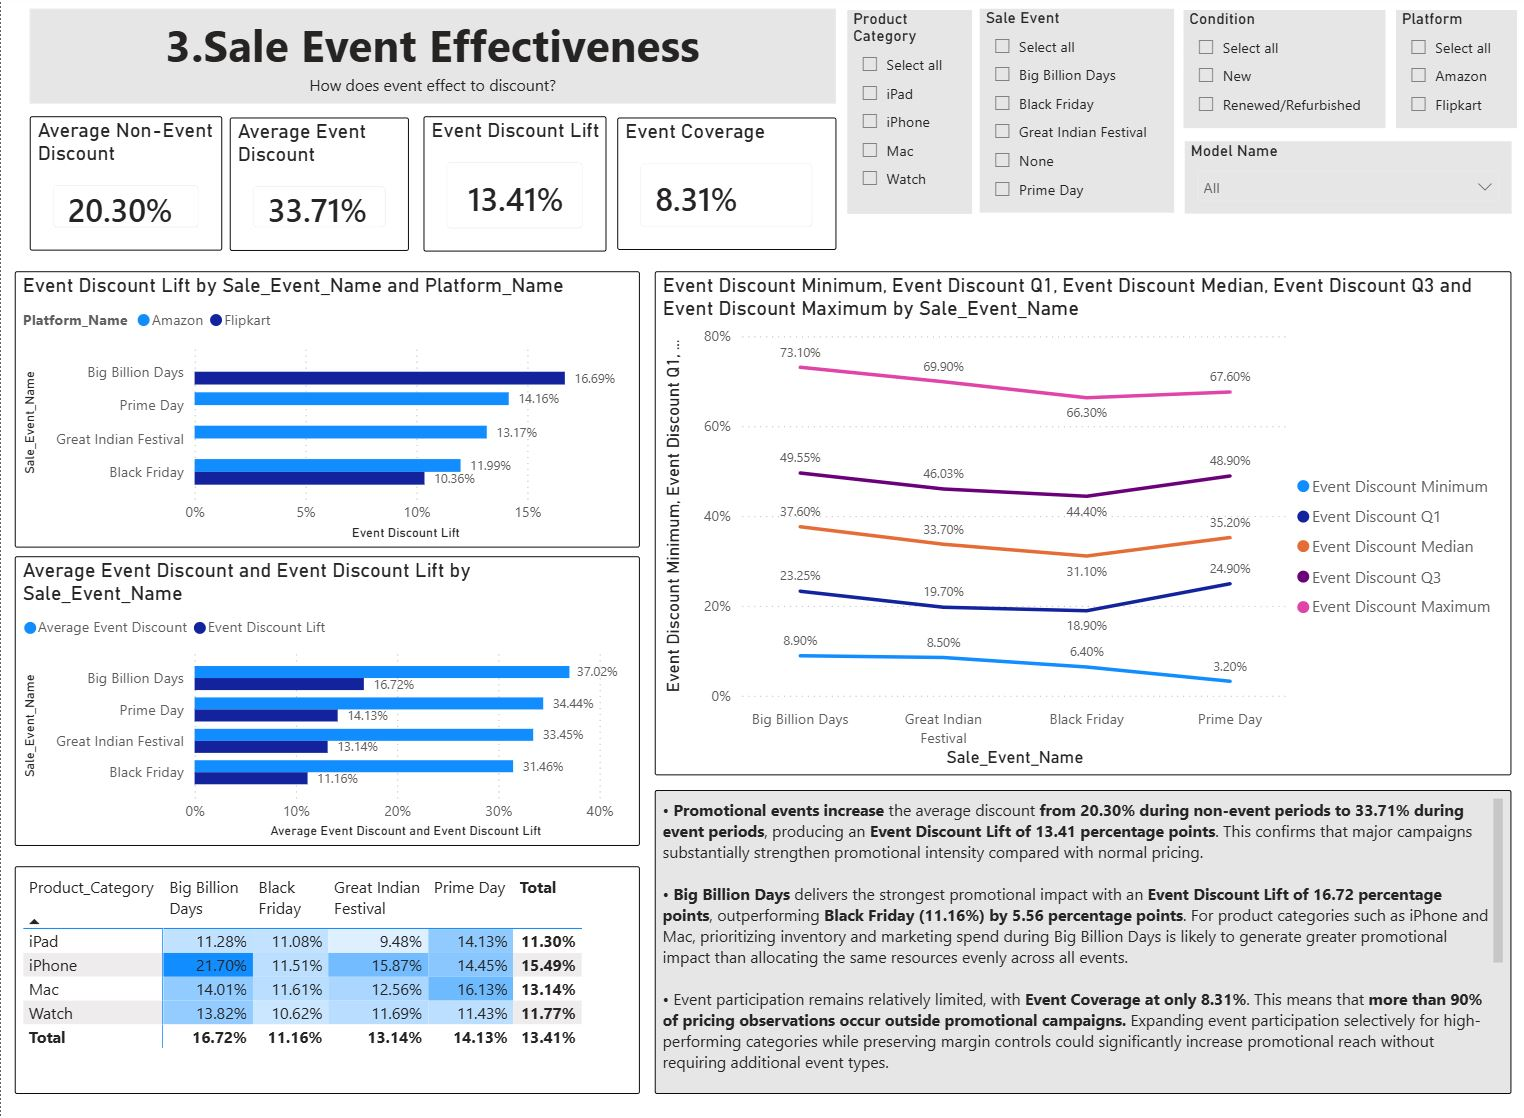

The dashboard page shown, as its layout file describes it:
{"tool":"powerbi","page":{"name":"Sale Event Effectiveness","canvas":[1280,960],"ordinal":2},"visuals":[{"type":"textbox","box":[24.2,11.6,676.6,79.4],"z":0},{"type":"cardVisual","title":"Average Event Discount","fields":{"Data":["0. Mesure.Average Event Discount"]},"box":[191.7,102.6,150,112.3],"z":1000},{"type":"cardVisual","title":"Average Non-Event Discount","fields":{"Data":["0. Mesure.Average Non-Event Discount"]},"box":[24.3,102,161.3,112.7],"z":2000},{"type":"cardVisual","title":"Event Discount Lift","fields":{"Data":["0. Mesure.Event Discount Lift"]},"box":[354.7,101.8,153.2,113.3],"z":3000},{"type":"clusteredBarChart","fields":{"Y":["0. Mesure.Average Event Discount","0. Mesure.Event Discount Lift"],"Category":["dim_sale_event.Sale_Event_Name"]},"box":[11.5,471.2,524.7,243.5],"z":4000},{"type":"pivotTable","fields":{"Rows":["dim_product.Product_Category"],"Columns":["dim_sale_event.Sale_Event_Name"],"Values":["0. Mesure.Event Discount Lift"]},"box":[11.5,731.4,524.7,191],"z":5000},{"type":"clusteredBarChart","fields":{"Category":["dim_sale_event.Sale_Event_Name"],"Y":["0. Mesure.Event Discount Lift"],"Series":["dim_platform.Platform_Name"]},"box":[11.5,231.9,524.7,231.9],"z":6000},{"type":"cardVisual","title":"Event Coverage","fields":{"Data":["0. Mesure.Event Coverage"]},"box":[517.4,102.8,183.6,111.2],"z":7000},{"type":"lineChart","fields":{"Category":["dim_sale_event.Sale_Event_Name"],"Y":["0. Mesure.Event Discount Minimum","0. Mesure.Event Discount Q1","0. Mesure.Event Discount Median","0. Mesure.Event Discount Q3","0. Mesure.Event Discount Maximum"]},"box":[548.8,231.9,718.8,422.9],"z":8000},{"type":"textbox","box":[548.8,667.4,718.8,255],"z":9000},{"type":"slicer","title":"Product Category","fields":{"Values":["dim_product.Product_Category"]},"box":[710.2,13,104.6,171.3],"z":10000},{"type":"slicer","title":"Platform","fields":{"Values":["dim_platform.Platform_Name"]},"box":[1170.9,12.4,101.9,99.1],"z":11000},{"type":"slicer","title":"Sale Event","fields":{"Values":["dim_sale_event.Sale_Event_Name"]},"box":[821.3,12,163,171.3],"z":12000},{"type":"slicer","title":"Condition","fields":{"Values":["dim_condition.Condition_Name"]},"box":[993.2,12.4,169.4,99.1],"z":13000},{"type":"slicer","title":"Model Name","fields":{"Values":["dim_product.Model_Name"]},"box":[993.5,123.1,274.1,61.1],"z":14000}]}

Visuals, with their boxes in screenshot pixels (x1, y1, x2, y2), scaled from the page's 1280x960 canvas onto the 1524x1118 screenshot:
textbox: region(29, 14, 834, 106)
"Average Event Discount" cardVisual: region(228, 119, 407, 250)
"Average Non-Event Discount" cardVisual: region(29, 119, 221, 250)
"Event Discount Lift" cardVisual: region(422, 119, 605, 251)
clusteredBarChart - 0. Mesure.Average Event Discount x 0. Mesure.Event Discount Lift: region(14, 549, 638, 832)
pivotTable - dim_product.Product_Category x dim_sale_event.Sale_Event_Name: region(14, 852, 638, 1074)
clusteredBarChart - dim_sale_event.Sale_Event_Name x 0. Mesure.Event Discount Lift: region(14, 270, 638, 540)
"Event Coverage" cardVisual: region(616, 120, 835, 249)
lineChart - dim_sale_event.Sale_Event_Name x 0. Mesure.Event Discount Minimum: region(653, 270, 1509, 763)
textbox: region(653, 777, 1509, 1074)
"Product Category" slicer: region(846, 15, 970, 215)
"Platform" slicer: region(1394, 14, 1515, 130)
"Sale Event" slicer: region(978, 14, 1172, 213)
"Condition" slicer: region(1183, 14, 1384, 130)
"Model Name" slicer: region(1183, 143, 1509, 215)
